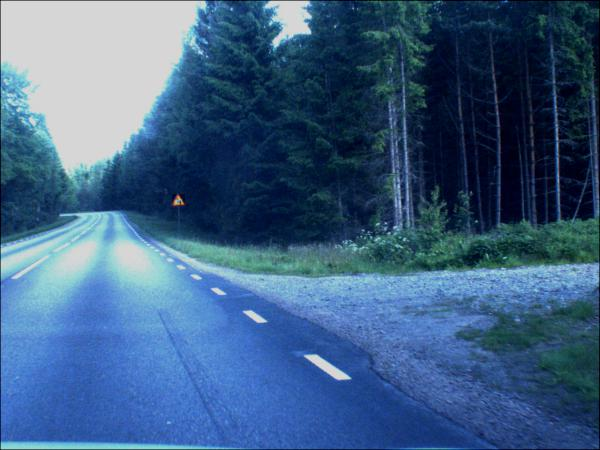WARNING: (173, 195, 187, 208)
